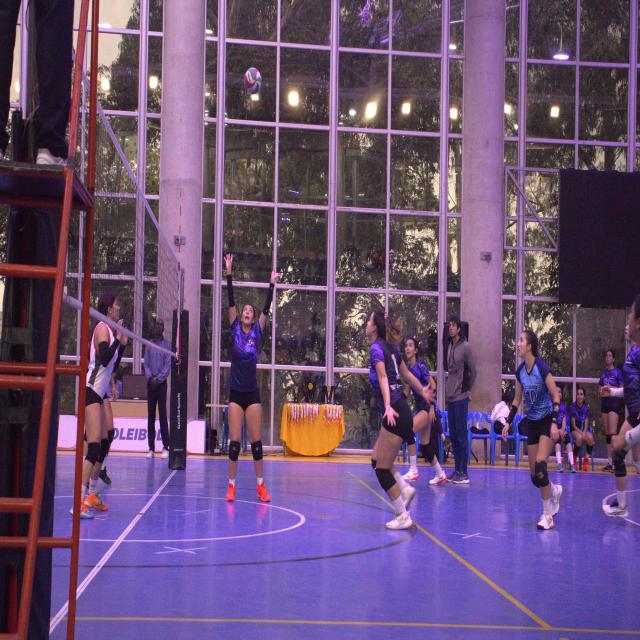volleyball: (244, 67, 261, 94)
